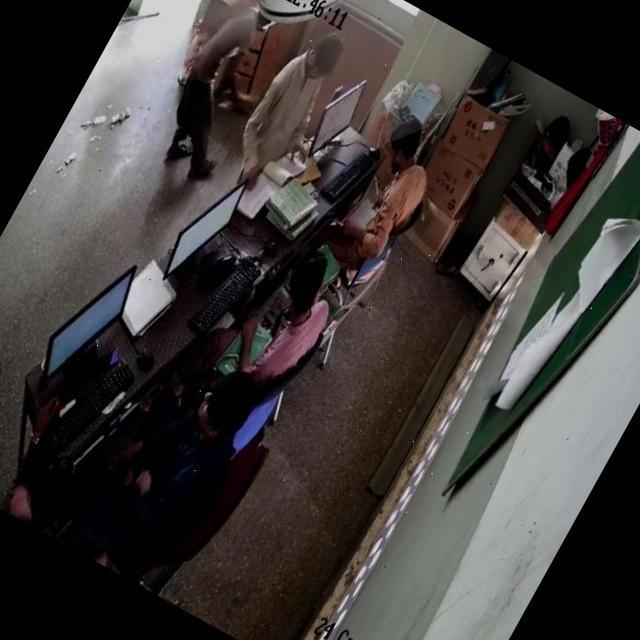person: (83, 357, 264, 570), (143, 0, 296, 188), (209, 236, 354, 417), (223, 21, 365, 198), (331, 112, 452, 274), (0, 417, 106, 541), (0, 339, 43, 495)
